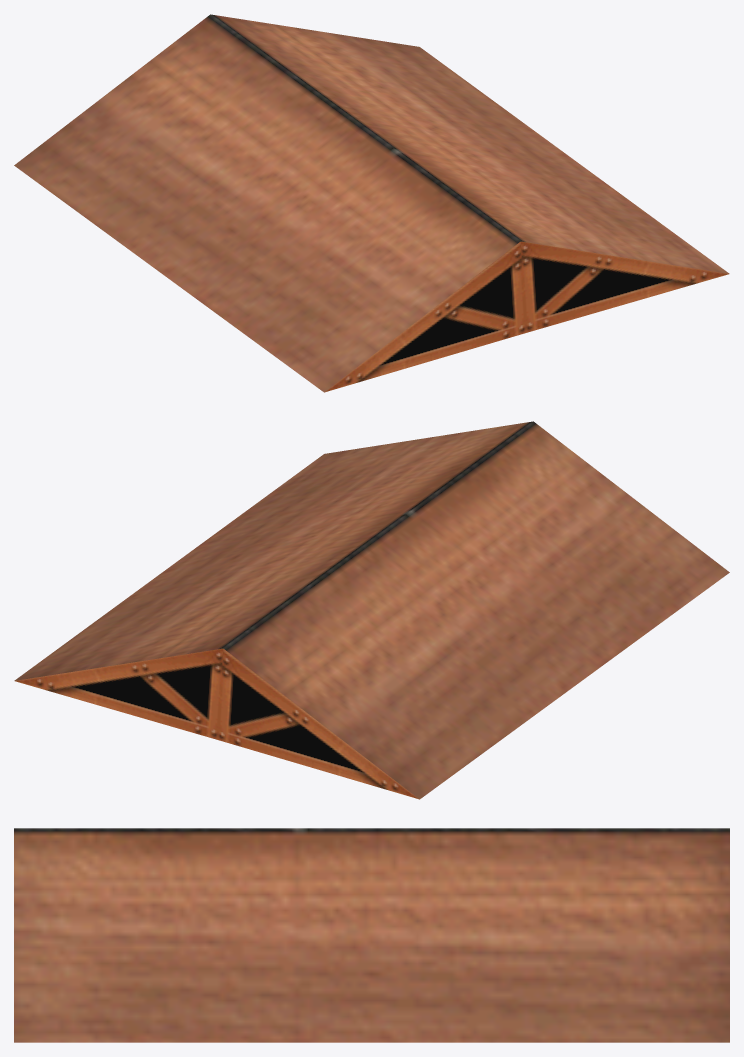
Rendered from truss03.glb.
The picture shows the model from 3 angles, top to bottom: view 1: azimuth 30°, elevation 25°; view 2: azimuth 150°, elevation 25°; view 3: azimuth 270°, elevation 25°; orthographic projection. The views are drawn at different scales.
Parts seen in each view (by area): view 1: truss03; view 2: truss03; view 3: truss03.
Boxes of the visible parts, <box> form: truss03: <box>14,14,729,392</box>; truss03: <box>14,421,729,799</box>; truss03: <box>14,828,729,1042</box>.
Bounding box in the file's own units: 992 × 241 × 1314.
2 materials, 2 textured.
